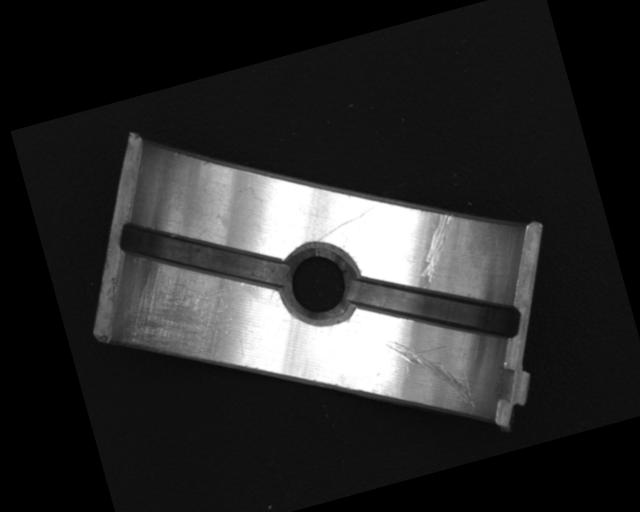gap: (114, 186, 291, 325), (349, 241, 524, 373)
hole: (268, 231, 371, 335)
nick: (383, 322, 477, 429), (404, 208, 469, 288), (311, 200, 388, 241)
scratch: (100, 247, 248, 383)
